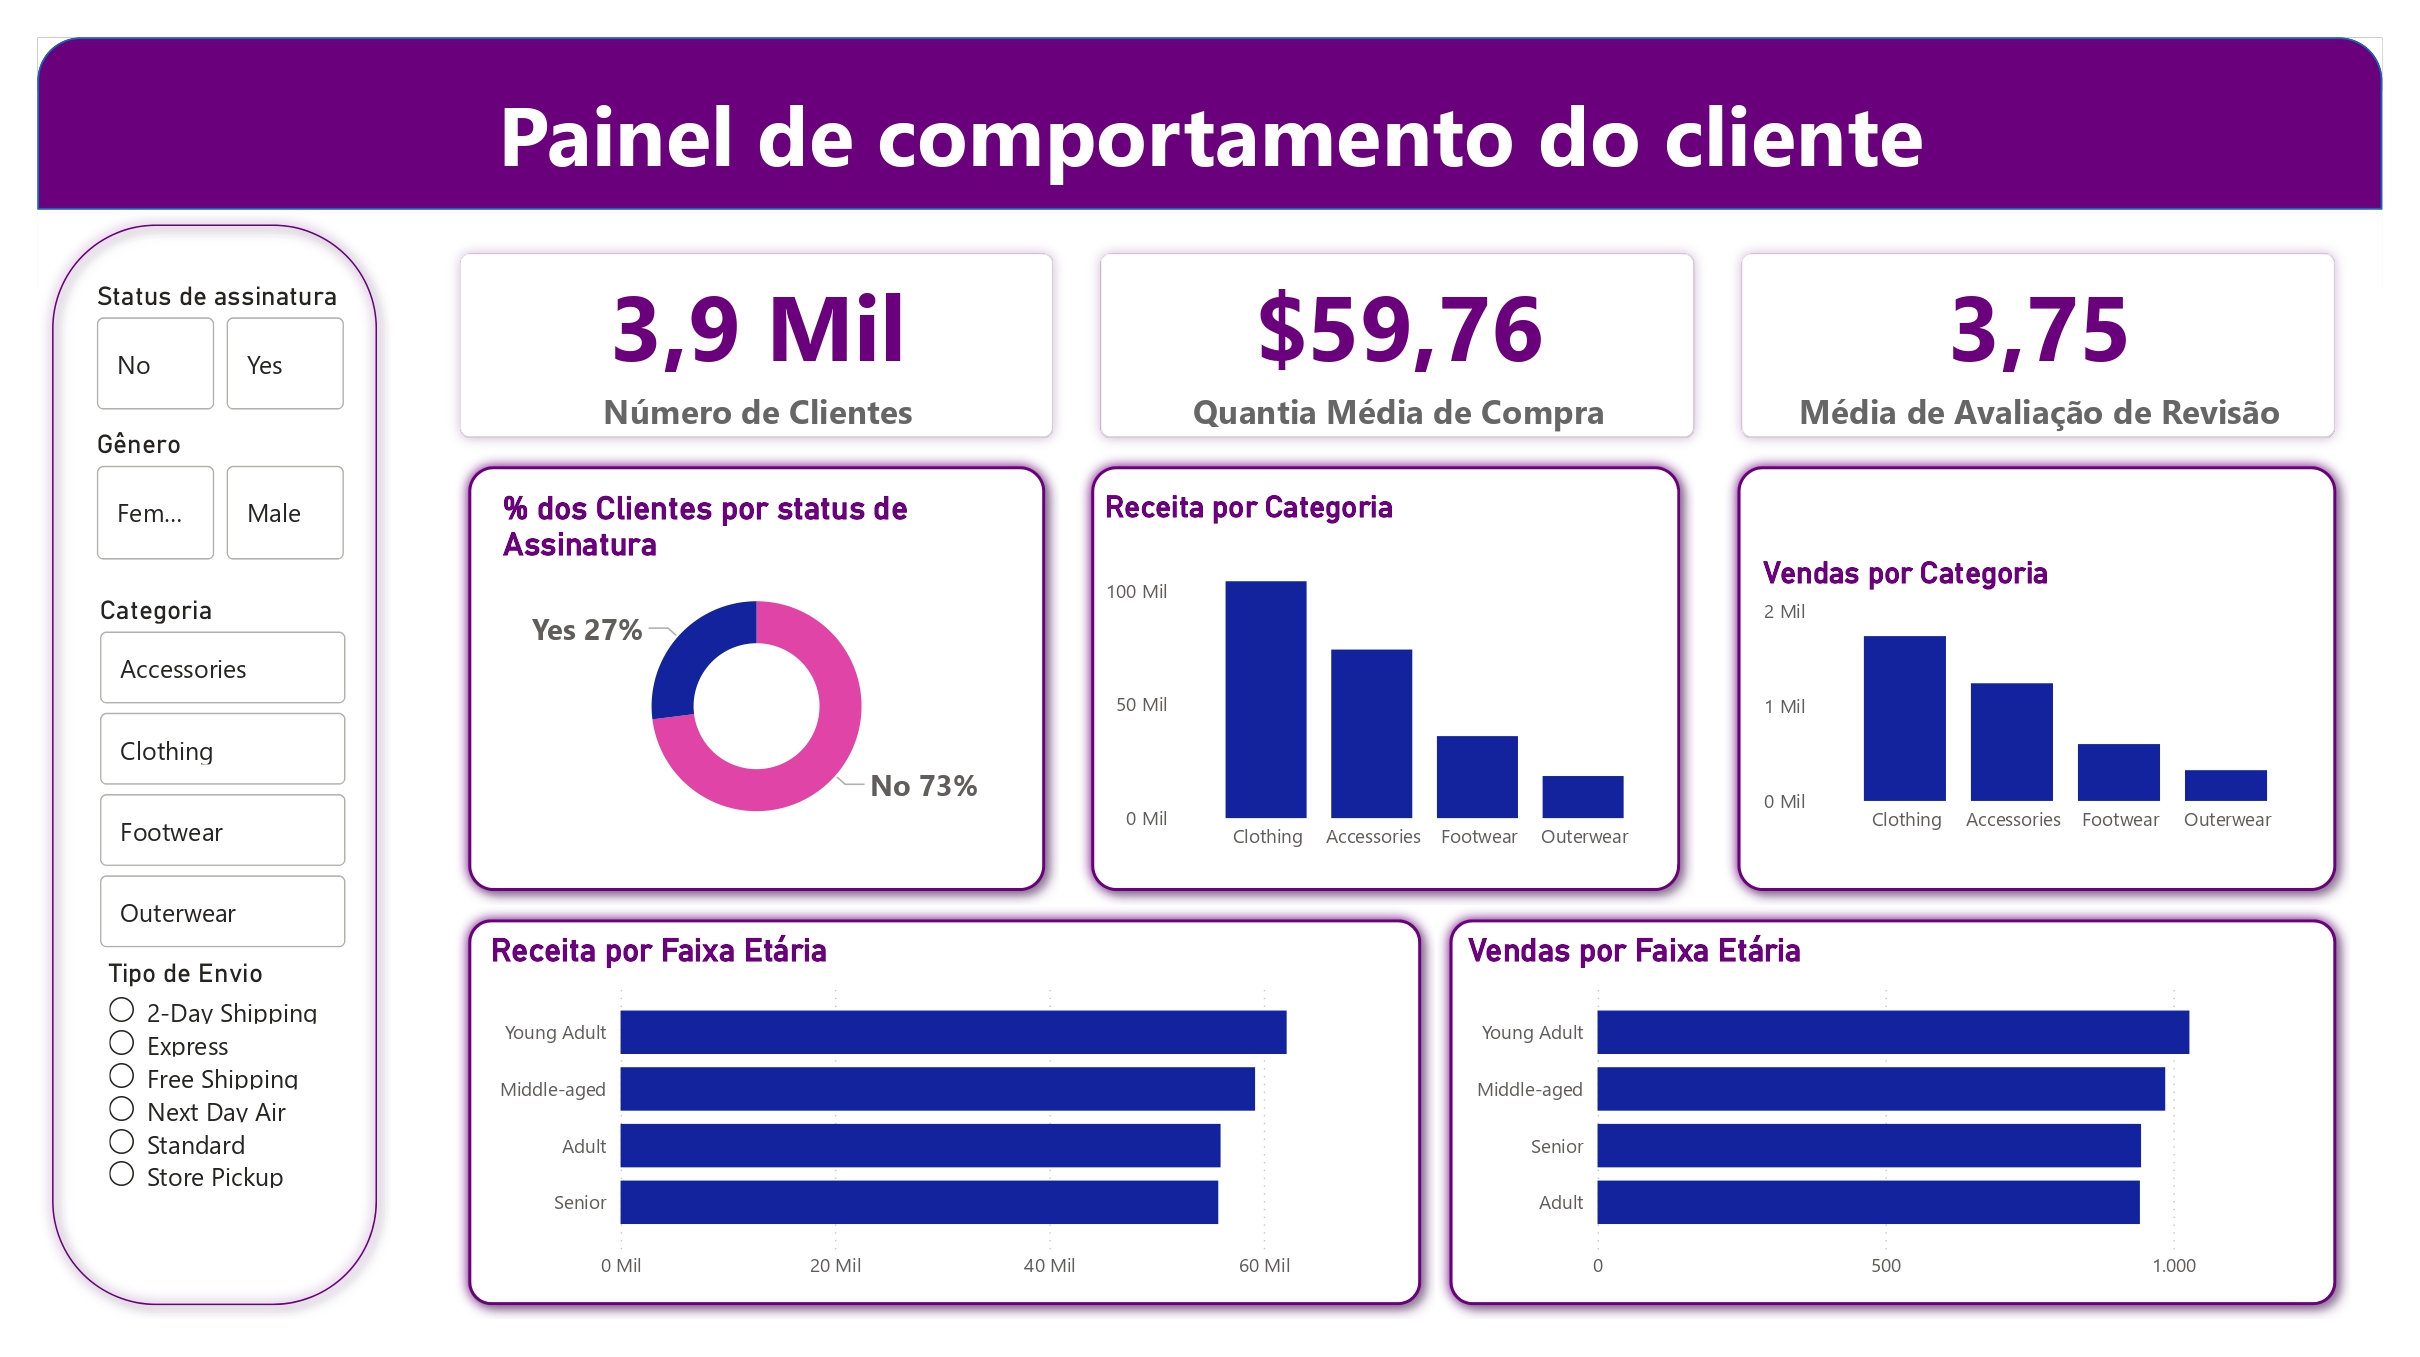

The dashboard page shown, as its layout file describes it:
{"tool":"powerbi","page":{"name":"Página 1","canvas":[1500,820],"ordinal":0},"visuals":[{"type":"cardVisual","fields":{"Data":["public customer.Número de Clientes","public customer.Quantia média de compra","public customer.Média de avaliação de revisão"]},"box":[242.3,110,1258,173.8],"z":0},{"type":"shape","box":[0,0,1500.3,110],"z":1000},{"type":"textbox","box":[114.8,19.1,1270.7,110],"z":2000},{"type":"shape","box":[266.3,264.7,387.4,290.2],"z":3000},{"type":"donutChart","title":"% dos Clientes por status de Assinatura","fields":{"Category":["public customer.subscription_status"],"Y":["CountNonNull(public customer.customer_id)"]},"box":[293.4,288.6,333.2,232.8],"z":4000},{"type":"shape","box":[664.9,264.7,395.4,290.2],"z":5000},{"type":"shape","box":[1077.8,264.7,401.8,290.2],"z":6000},{"type":"clusteredColumnChart","title":"Receita por Categoria","fields":{"Category":["public customer.category"],"Y":["Sum(public customer.purchase_amount)"]},"box":[677.6,288.6,371.5,240.8],"z":7000},{"type":"clusteredColumnChart","title":"Vendas por Categoria","fields":{"Category":["public customer.category"],"Y":["CountNonNull(public customer.customer_id)"]},"box":[1098.9,331,361.9,186.5],"z":8000},{"type":"shape","box":[0,110,226.4,709.5],"z":9000},{"type":"advancedSlicerVisual","fields":{"Values":["public customer.subscription_status"]},"box":[33.5,154.7,167.4,89.3],"z":10000},{"type":"advancedSlicerVisual","fields":{"Values":["public customer.gender"]},"box":[33.5,250.3,167.4,89.3],"z":11000},{"type":"advancedSlicerVisual","fields":{"Values":["public customer.category"]},"box":[35.1,355.5,167.4,232.8],"z":11001},{"type":"listSlicer","fields":{"Values":["public customer.shipping_type"]},"box":[39.9,588.3,149.9,199.3],"z":11002},{"type":"shape","box":[266.3,554.8,628.2,264.7],"z":11003},{"type":"barChart","title":"Receita por Faixa Etária","fields":{"Category":["public customer.age_group"],"Y":["Sum(public customer.purchase_amount)"]},"box":[285.4,572.4,589.9,231.2],"z":11004},{"type":"shape","box":[894.5,554.8,585.1,264.7],"z":11005},{"type":"barChart","title":"Vendas por Faixa Etária","fields":{"Category":["public customer.age_group"],"Y":["CountNonNull(public customer.customer_id)"]},"box":[910.4,572.4,550.1,231.2],"z":11006}]}

Visuals, with their boxes in screenshot pixels (x1, y1, x2, y2):
cardVisual - public customer.Número de Clientes x public customer.Quantia média de compra: crop(422, 200, 2353, 467)
shape: crop(50, 32, 2353, 200)
textbox: crop(227, 61, 2177, 230)
shape: crop(459, 438, 1054, 883)
"% dos Clientes por status de Assinatura" donutChart: crop(501, 474, 1012, 832)
shape: crop(1071, 438, 1678, 883)
shape: crop(1704, 438, 2321, 883)
"Receita por Categoria" clusteredColumnChart: crop(1090, 474, 1660, 844)
"Vendas por Categoria" clusteredColumnChart: crop(1737, 539, 2292, 826)
shape: crop(50, 200, 398, 1289)
advancedSlicerVisual - public customer.subscription_status: crop(102, 269, 359, 406)
advancedSlicerVisual - public customer.gender: crop(102, 416, 359, 553)
advancedSlicerVisual - public customer.category: crop(104, 577, 361, 934)
listSlicer - public customer.shipping_type: crop(112, 934, 342, 1240)
shape: crop(459, 883, 1423, 1289)
"Receita por Faixa Etária" barChart: crop(488, 910, 1394, 1265)
shape: crop(1423, 883, 2321, 1289)
"Vendas por Faixa Etária" barChart: crop(1448, 910, 2292, 1265)
